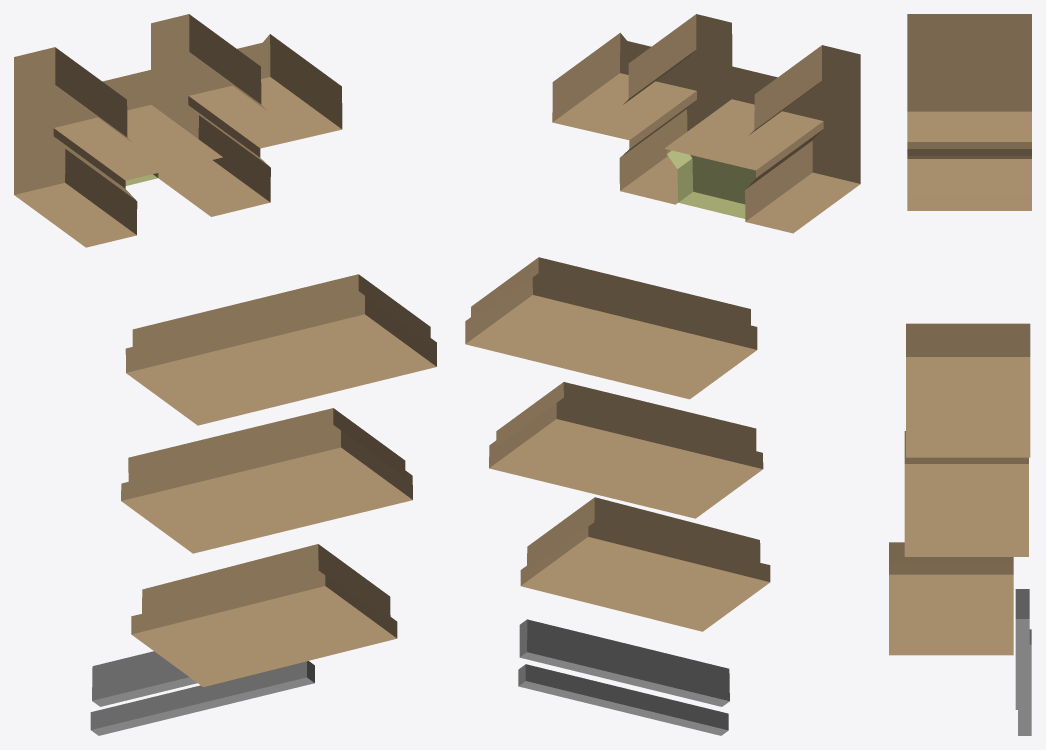
3 views of the same model, side by side, from view 1: azimuth 30°, elevation 25°; view 2: azimuth 150°, elevation 25°; view 3: azimuth 270°, elevation 25° (orthographic). The views are drawn at different scales.
Parts seen in each view (by area): view 1: 0_3_2_2_3_1_0; view 2: 0_3_2_2_3_1_0; view 3: 0_3_2_2_3_1_0.
Boxes of the visible parts, bbox=[...] form: 0_3_2_2_3_1_0: bbox=[14, 14, 436, 735]; 0_3_2_2_3_1_0: bbox=[465, 14, 860, 735]; 0_3_2_2_3_1_0: bbox=[889, 14, 1031, 735].
Bounding box in the file's own units: 75.85 × 143 × 30.95.
